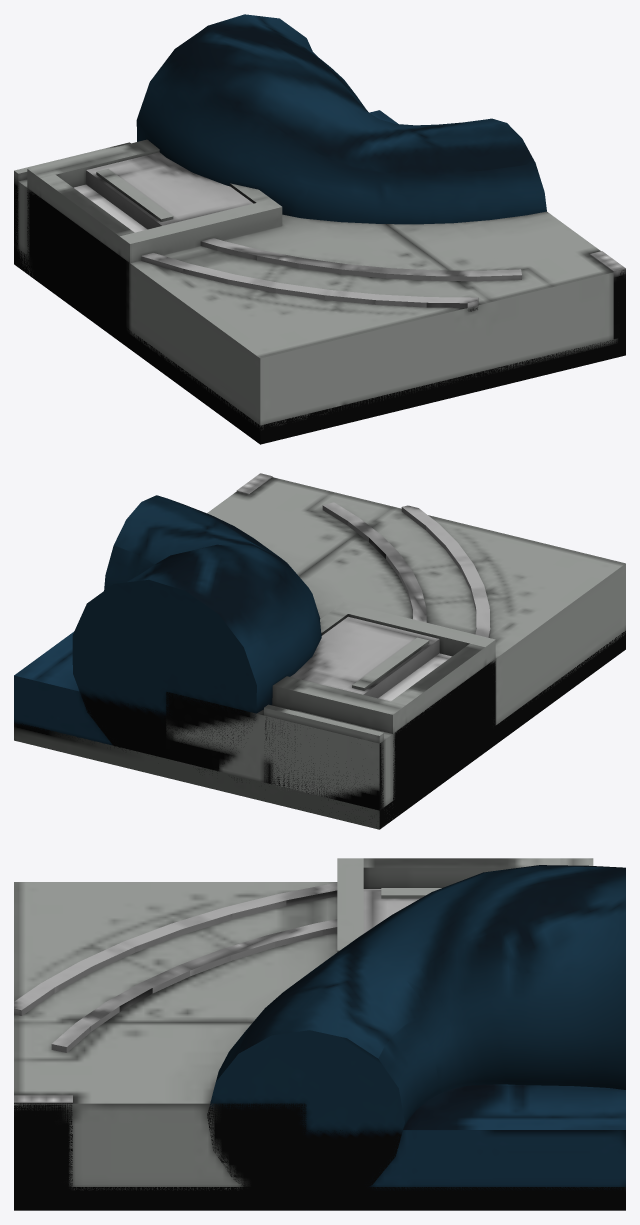
The model's file is newshb-117-f2.glb.
3 renders of one model, top to bottom at view 1: azimuth 30°, elevation 25°; view 2: azimuth 150°, elevation 25°; view 3: azimuth 270°, elevation 25°, orthographic. The views are drawn at different scales.
Parts seen in each view (by area): view 1: newshb-117, newshb-117-f2-hatch; view 2: newshb-117, newshb-117-f2-hatch; view 3: newshb-117, newshb-117-f2-hatch.
Boxes of the visible parts, x1,y1,x2,y2 form: newshb-117: (14,14,625,444); newshb-117-f2-hatch: (86,152,253,229); newshb-117: (14,473,625,829); newshb-117-f2-hatch: (290,616,439,698); newshb-117: (14,858,625,1210); newshb-117-f2-hatch: (363,888,441,933).
Size of the model in its own units: 2 by 1.01 by 2.33.
Materials: 7 (7 with a texture image).
